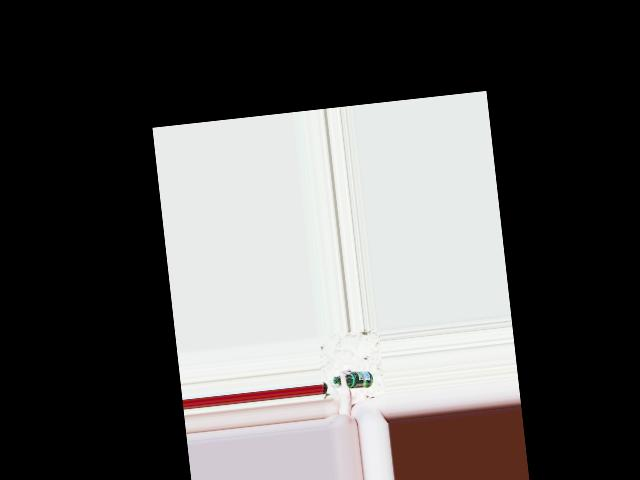beer: (331, 369, 374, 392)
